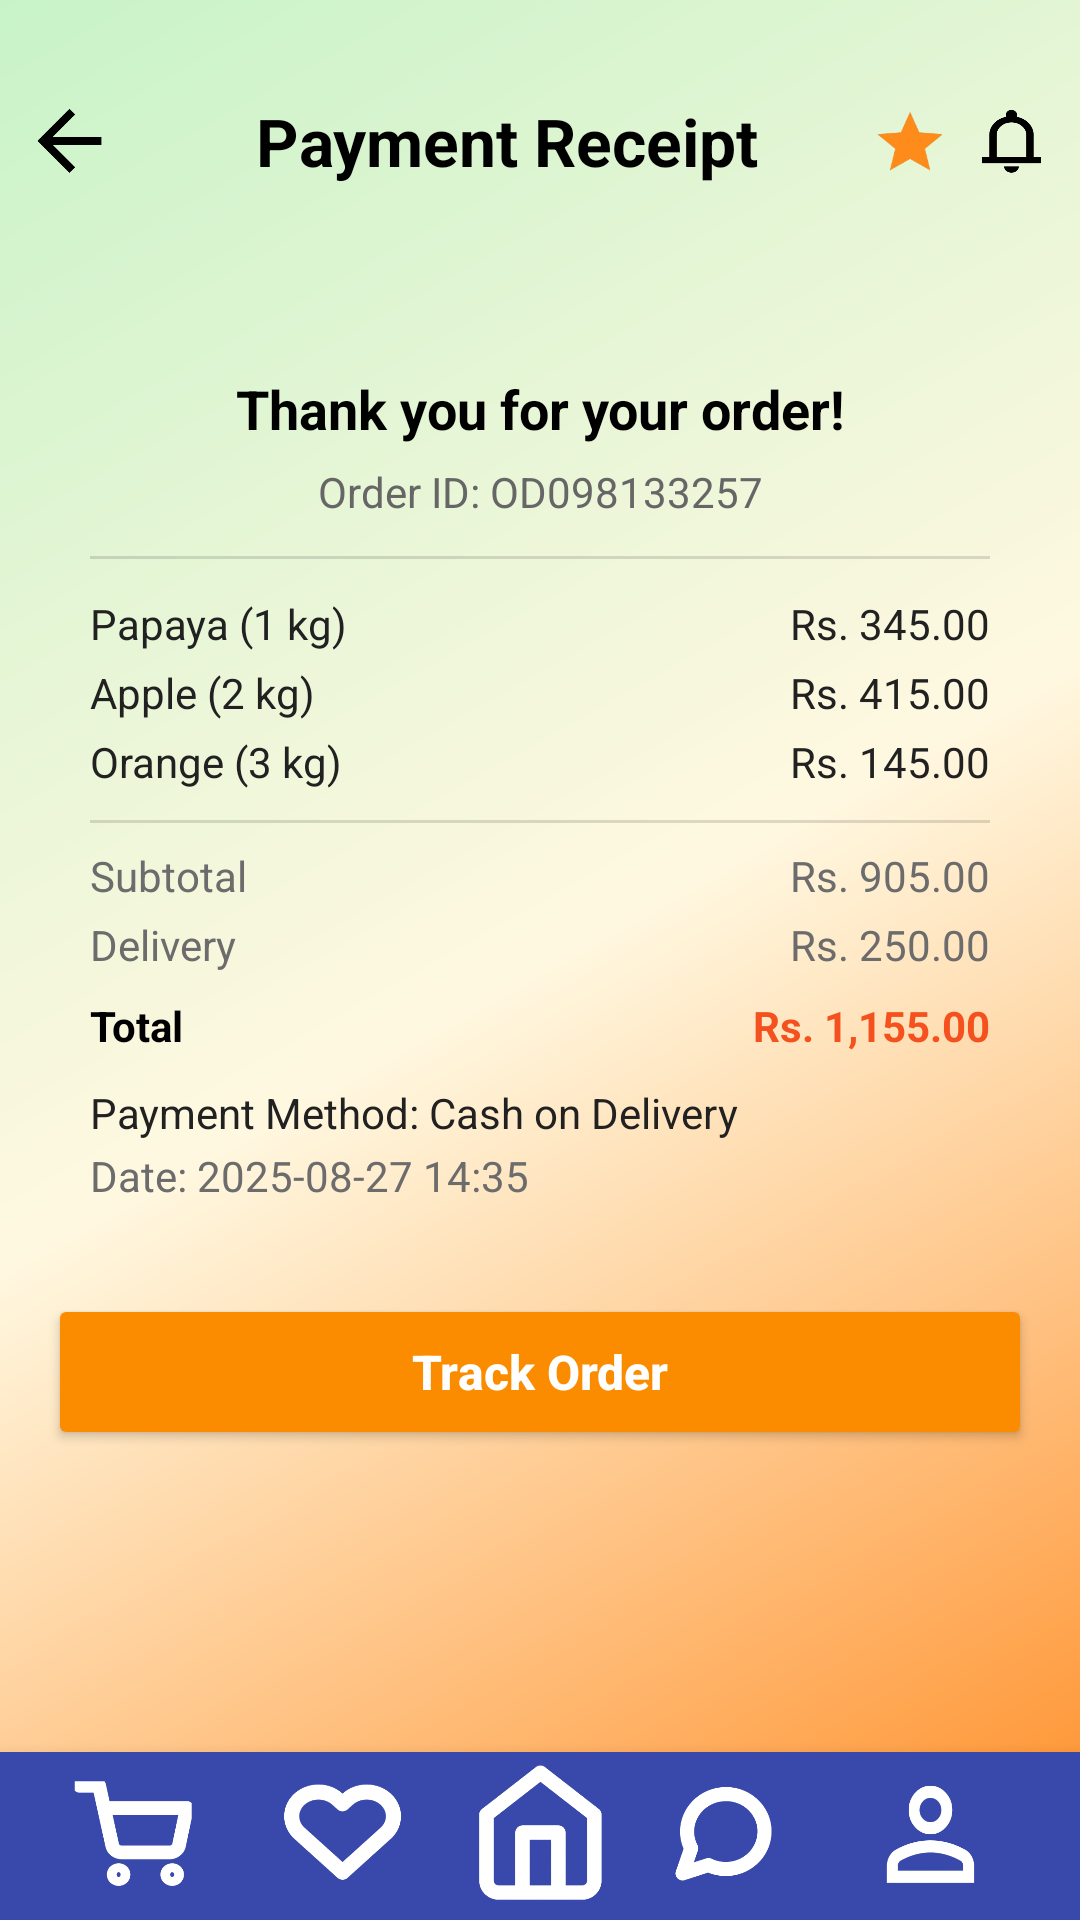

Icon bounding boxes for this 1080×1920 phone screenshot, format BBox(x1, y1, x2, y2):
back arrow: BBox(38, 109, 102, 173)
bell: BBox(982, 110, 1041, 173)
menu cart: BBox(74, 1781, 192, 1886)
menu home: BBox(479, 1765, 602, 1900)
menu profile: BBox(886, 1786, 974, 1883)
menu wishlist: BBox(284, 1784, 401, 1880)
star: BBox(877, 112, 942, 171)
